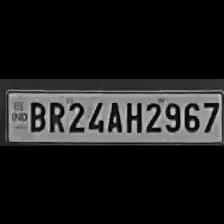2: (64, 96, 84, 132), (142, 97, 162, 133)
4: (85, 96, 105, 132)
6: (180, 98, 200, 132)
7: (200, 97, 220, 133)
9: (162, 98, 182, 132)
A: (104, 97, 122, 131)
B: (26, 97, 46, 131)
H: (122, 96, 142, 132)
R: (45, 96, 65, 132)
